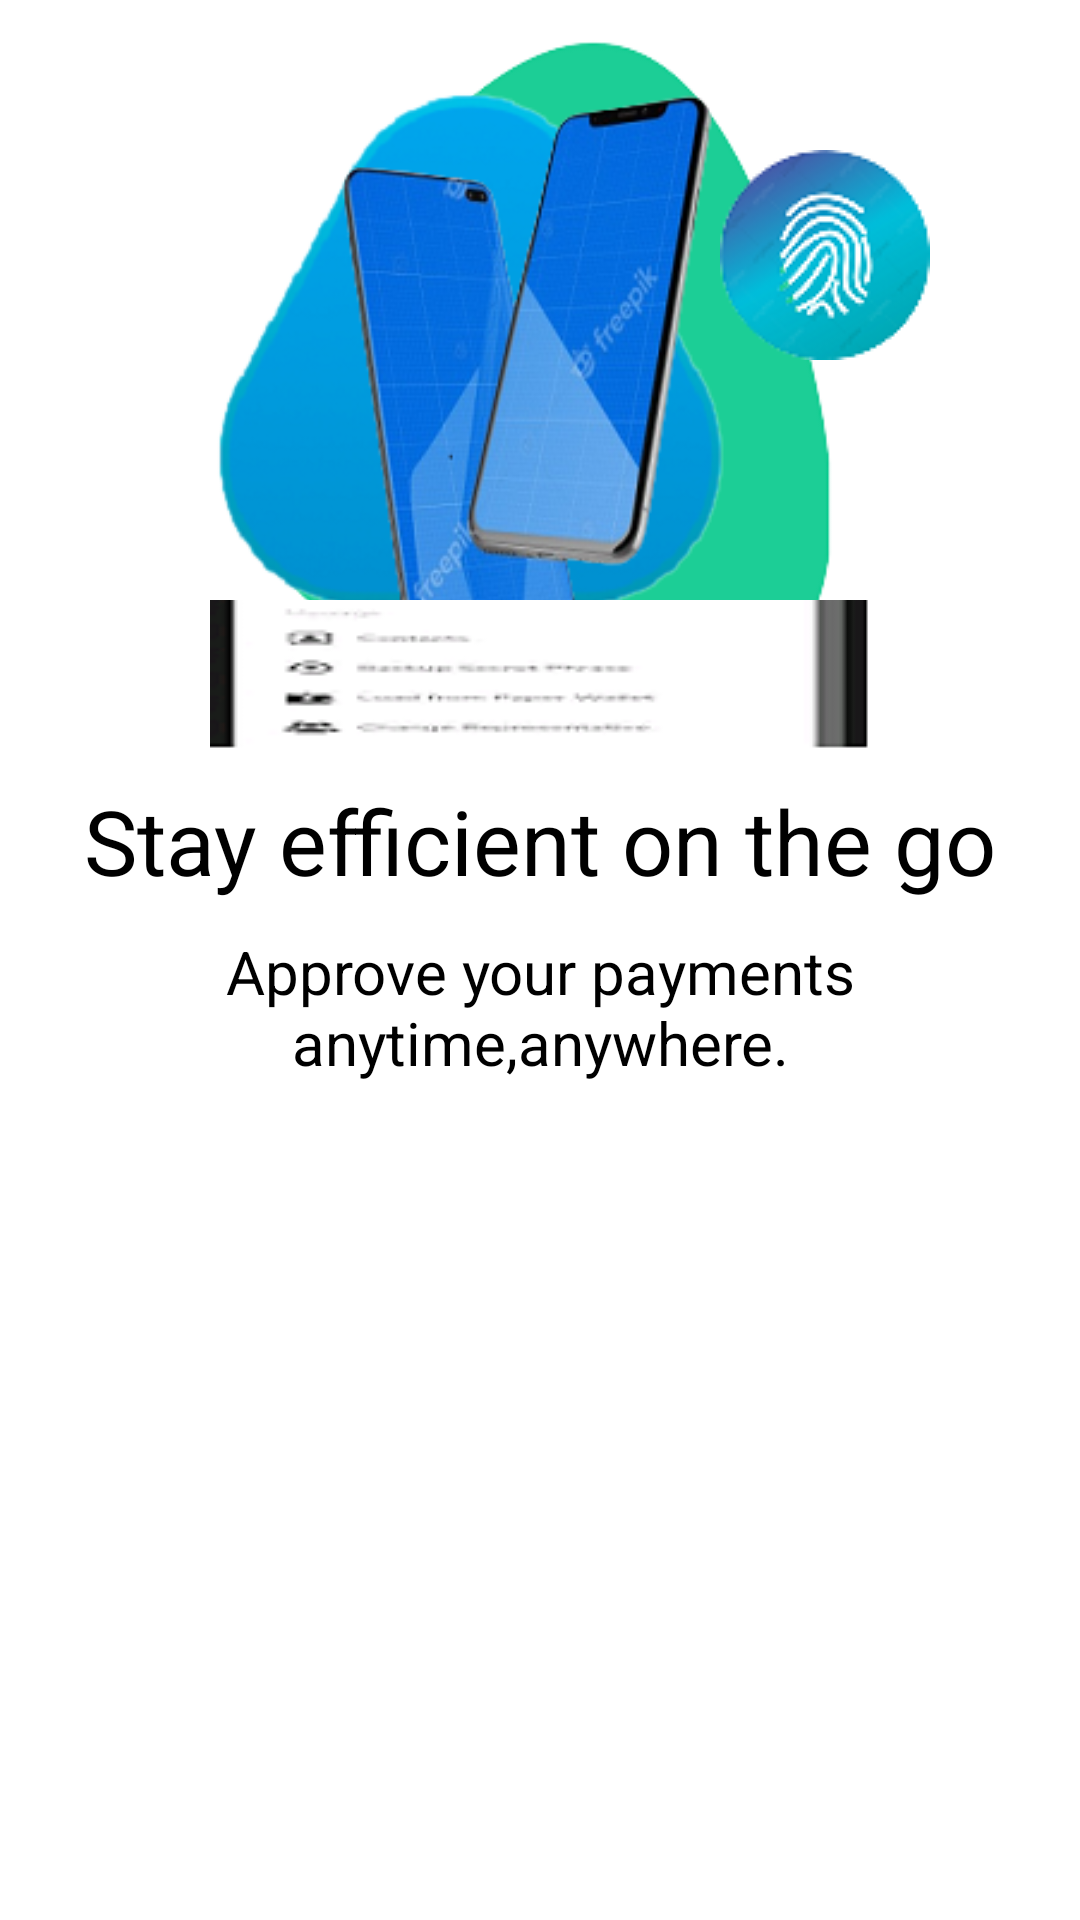

Locate icon controls on the screen. Image size 1080 x 1920, boxes as (x1, y1, x2, y2).
touch: (720, 150, 930, 360)
